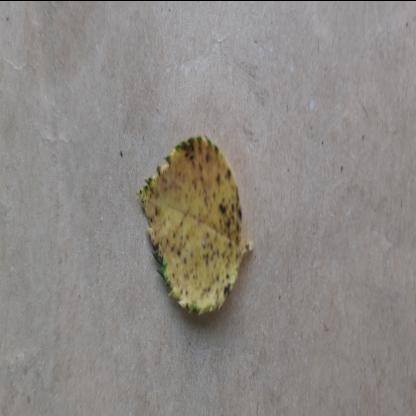black-spot: (138, 128, 249, 324)
